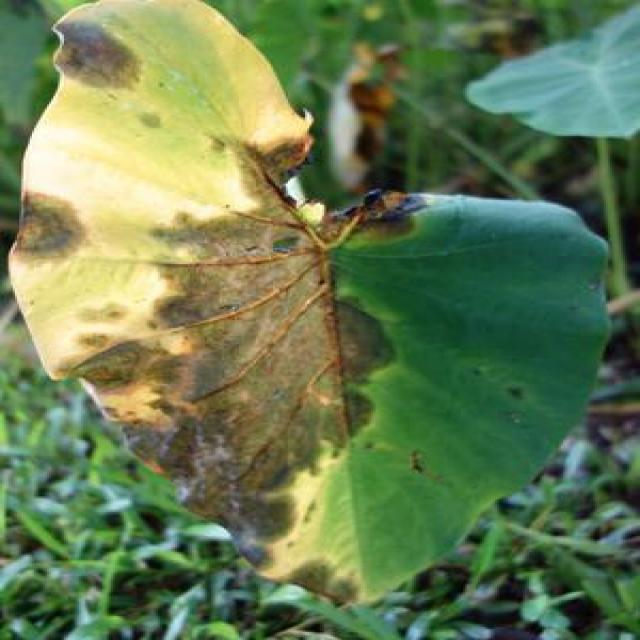blight: (118, 199, 411, 506)
